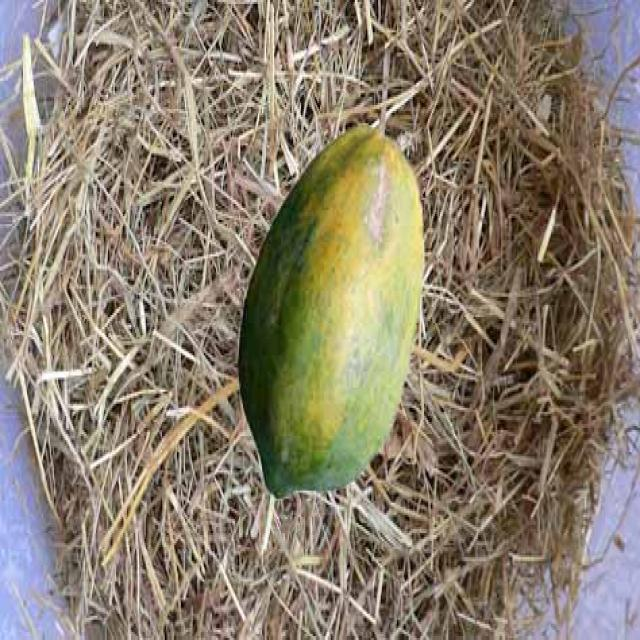Pepaya rippen: (235, 127, 425, 495)
